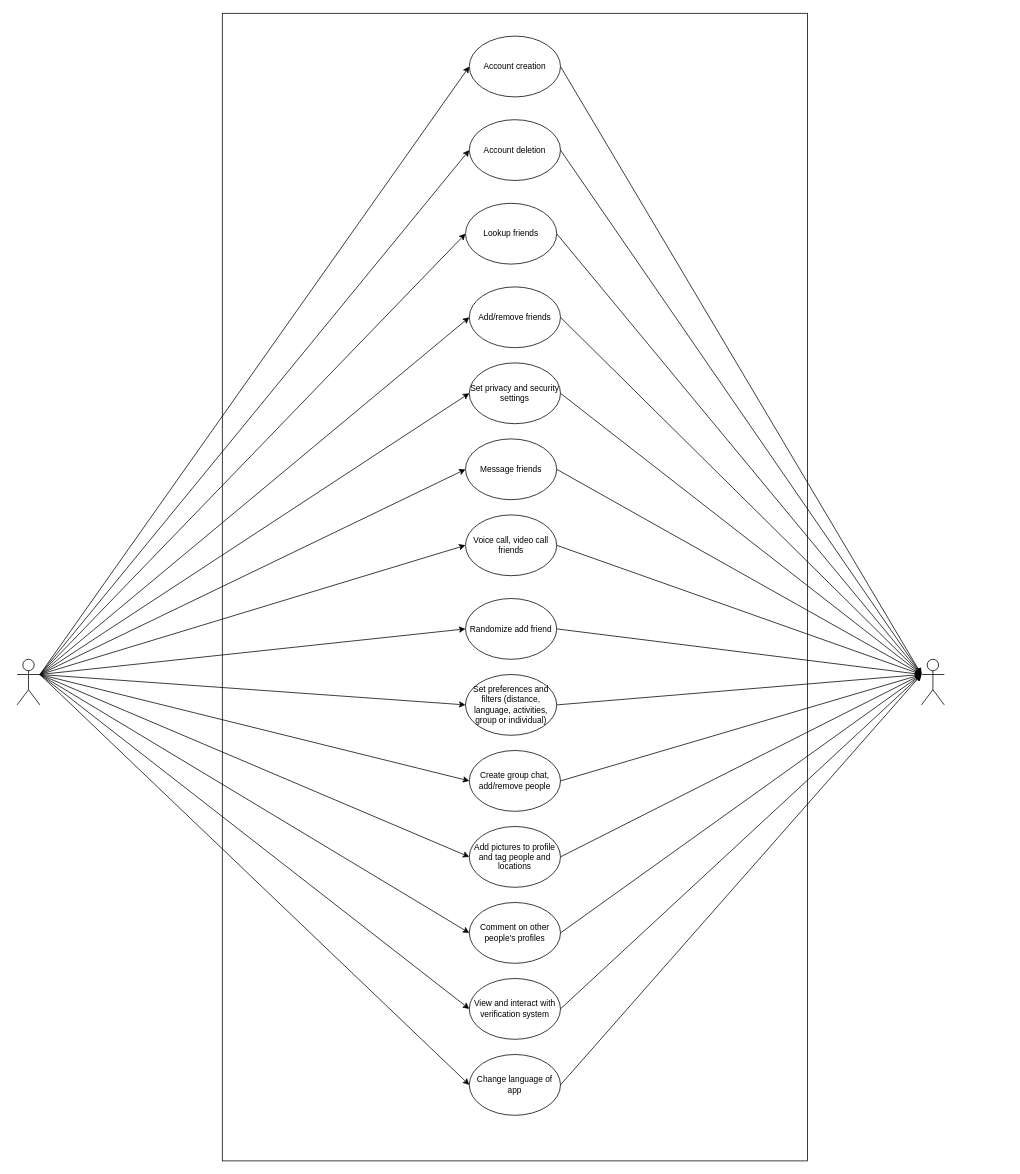
The diagram is 1020 pixels wide and 1174 high, and some of its shapes have lost their labels. The box of each missing label's shape, as (x1, y1, x2, y2) in pixels:
SBRU Social Networking Subsystem: (921, 659, 944, 705)
Student: (16, 659, 40, 705)
